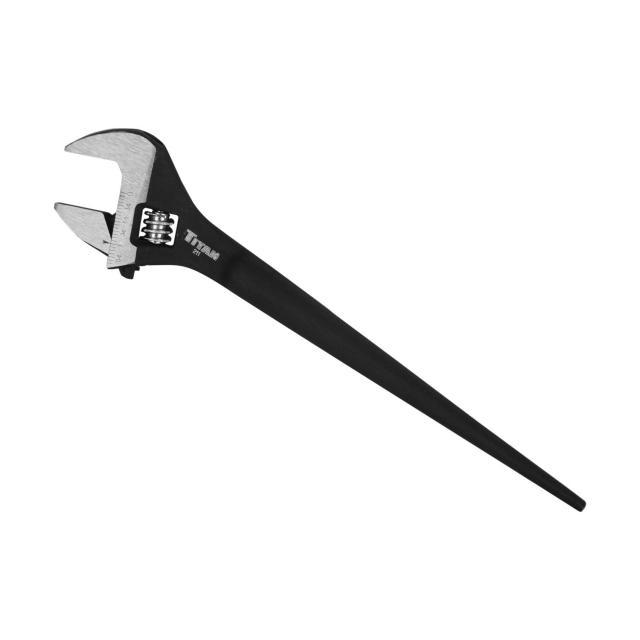wrench: (51, 122, 588, 516)
